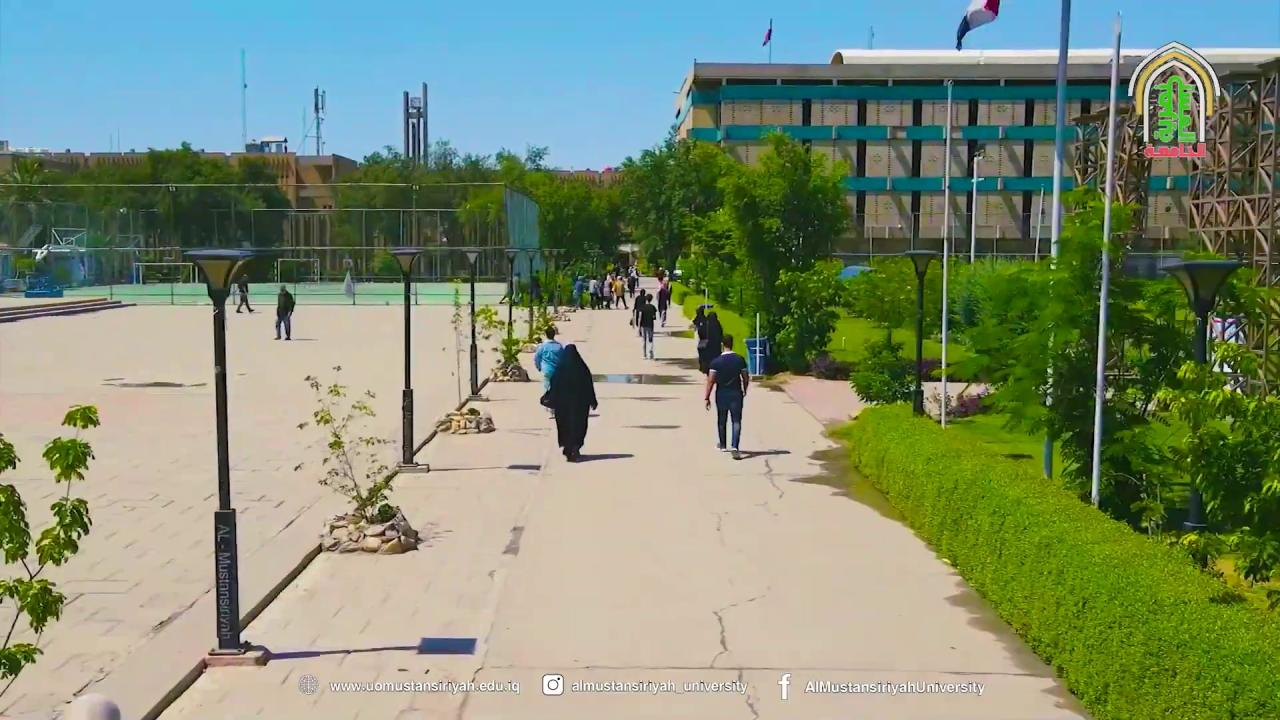person: (546, 343, 597, 461), (704, 334, 750, 458), (533, 324, 564, 412), (698, 311, 723, 374), (638, 294, 657, 360), (273, 285, 295, 340), (235, 272, 254, 312)
tree: (949, 167, 1280, 565), (679, 126, 852, 373), (1108, 358, 1280, 583), (1043, 182, 1147, 507), (329, 140, 550, 280), (63, 143, 285, 282), (0, 402, 100, 698), (843, 250, 974, 409), (616, 127, 735, 285), (297, 364, 402, 529), (471, 246, 560, 380), (524, 171, 607, 305), (772, 258, 845, 374), (0, 155, 63, 247), (454, 196, 496, 247), (523, 142, 549, 171)
